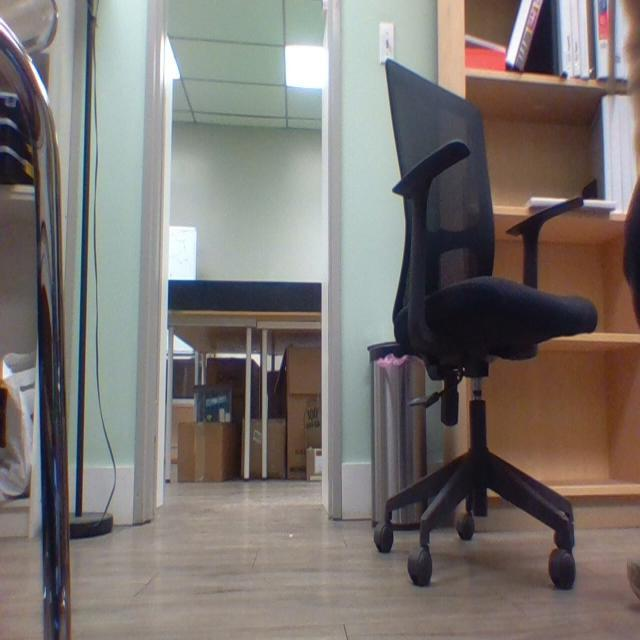chair: (360, 49, 600, 568)
